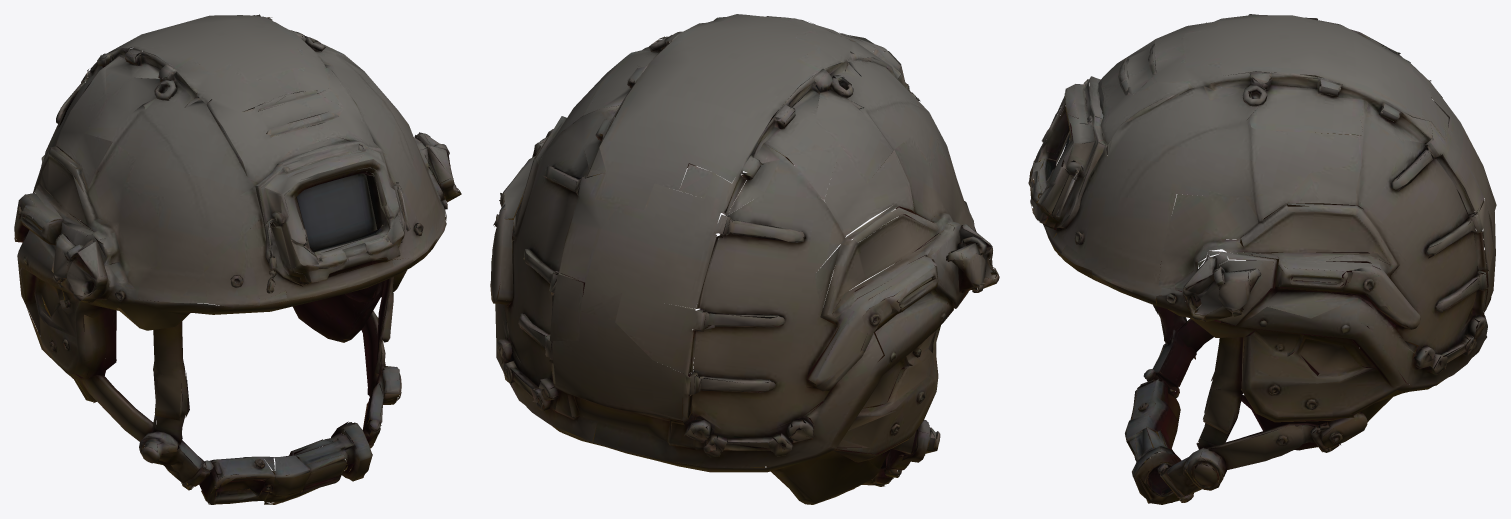
File: mer_tactical_helmet_nvg_LOD1.glb
The picture shows the model from 3 angles, left to right: view 1: azimuth 30°, elevation 25°; view 2: azimuth 150°, elevation 25°; view 3: azimuth 270°, elevation 25°; orthographic projection. The views are drawn at different scales.
Parts seen in each view (by area): view 1: tripo_node_3221aee6-50b0-457b-a914-8cea8e218df3; view 2: tripo_node_3221aee6-50b0-457b-a914-8cea8e218df3; view 3: tripo_node_3221aee6-50b0-457b-a914-8cea8e218df3.
Part boxes in pixels (x1,y1,x2,y2): tripo_node_3221aee6-50b0-457b-a914-8cea8e218df3: [14, 14, 461, 504]; tripo_node_3221aee6-50b0-457b-a914-8cea8e218df3: [490, 14, 999, 504]; tripo_node_3221aee6-50b0-457b-a914-8cea8e218df3: [1028, 14, 1496, 504].
Bounding box in the file's own units: 0.987 × 0.9994 × 0.9768.
Materials: 1 (1 with a texture image).
